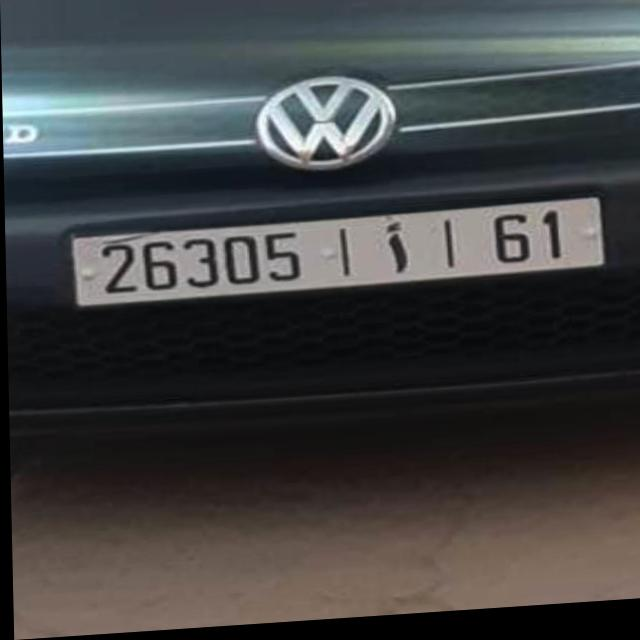License-Plate: (70, 205, 603, 309)
